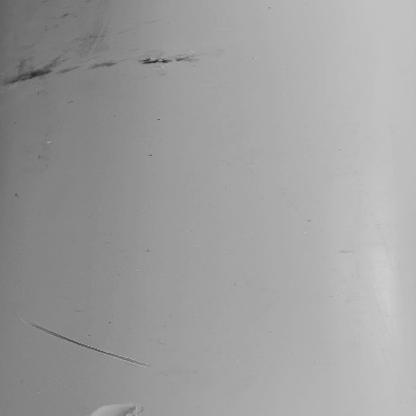sunshang: (26, 321, 147, 367), (89, 401, 135, 416)
